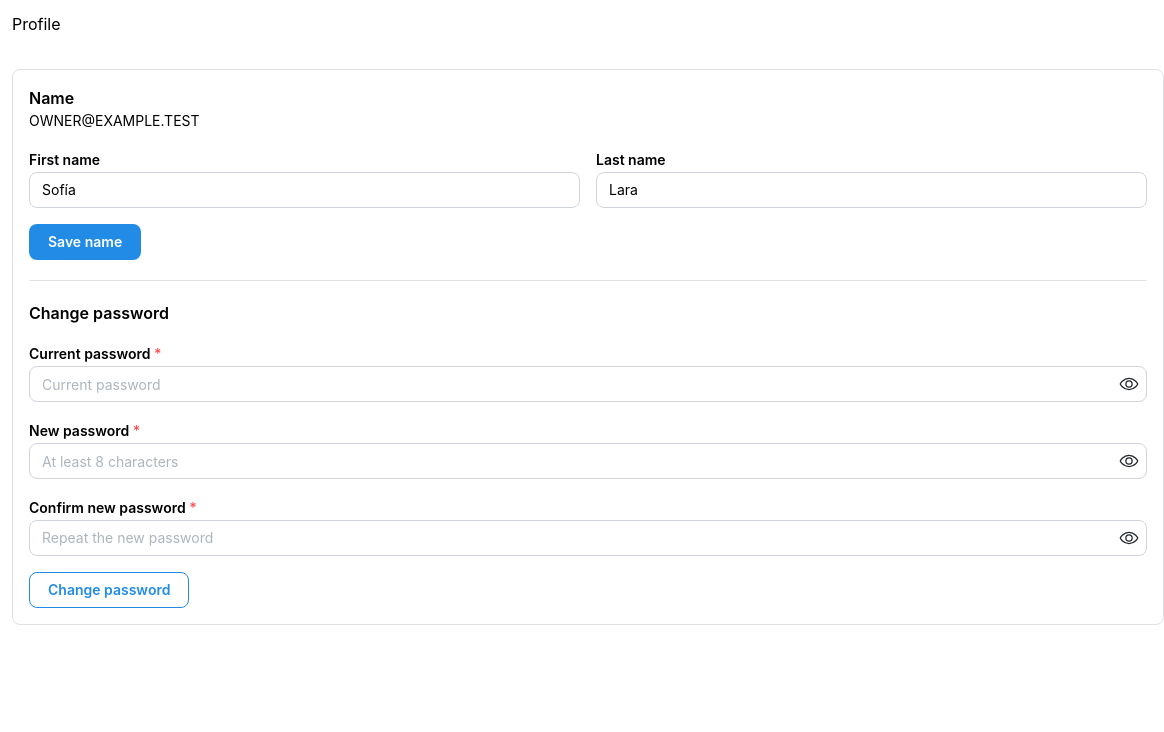
it: the profile page — the password change › maps a wrong current password to its own line
Type "not-the-password" into the password field labelled "Current password *" at (588, 384), box [30,367,1146,401]
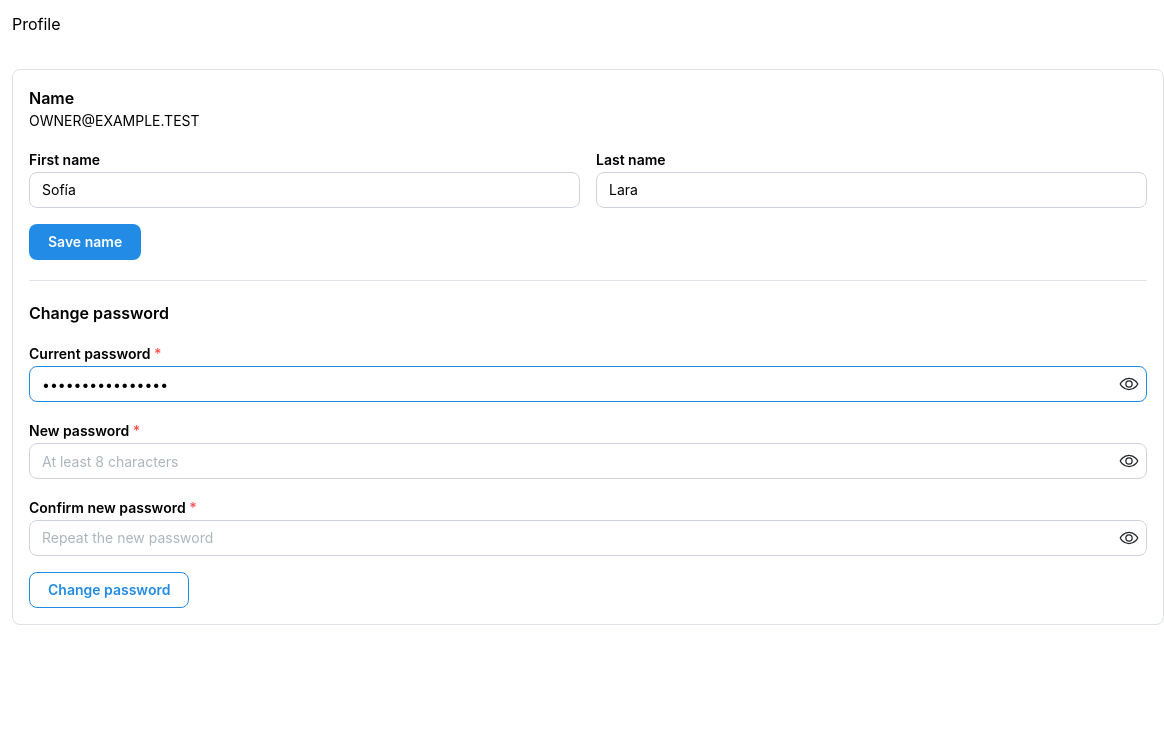
Type "sunlight-123" into the password field labelled "New password *" at (588, 461), box [30,444,1146,478]
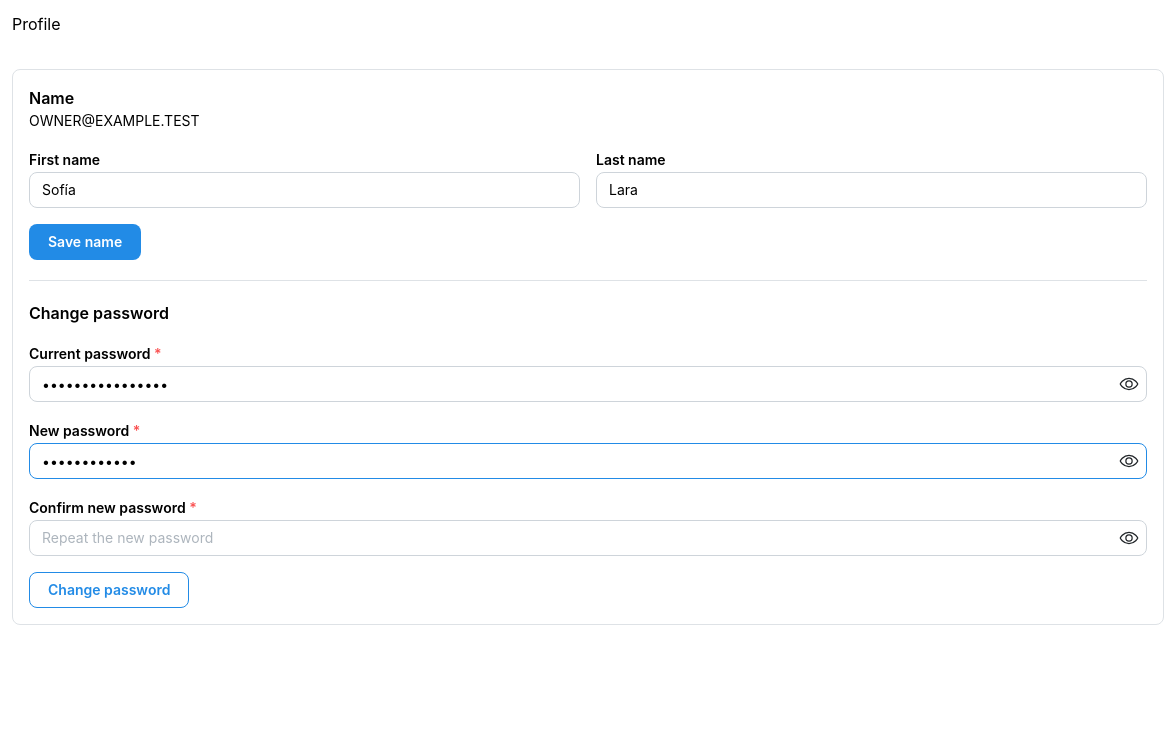
Type "sunlight-123" into the password field labelled "Confirm new password *" at (588, 538), box [30,521,1146,555]
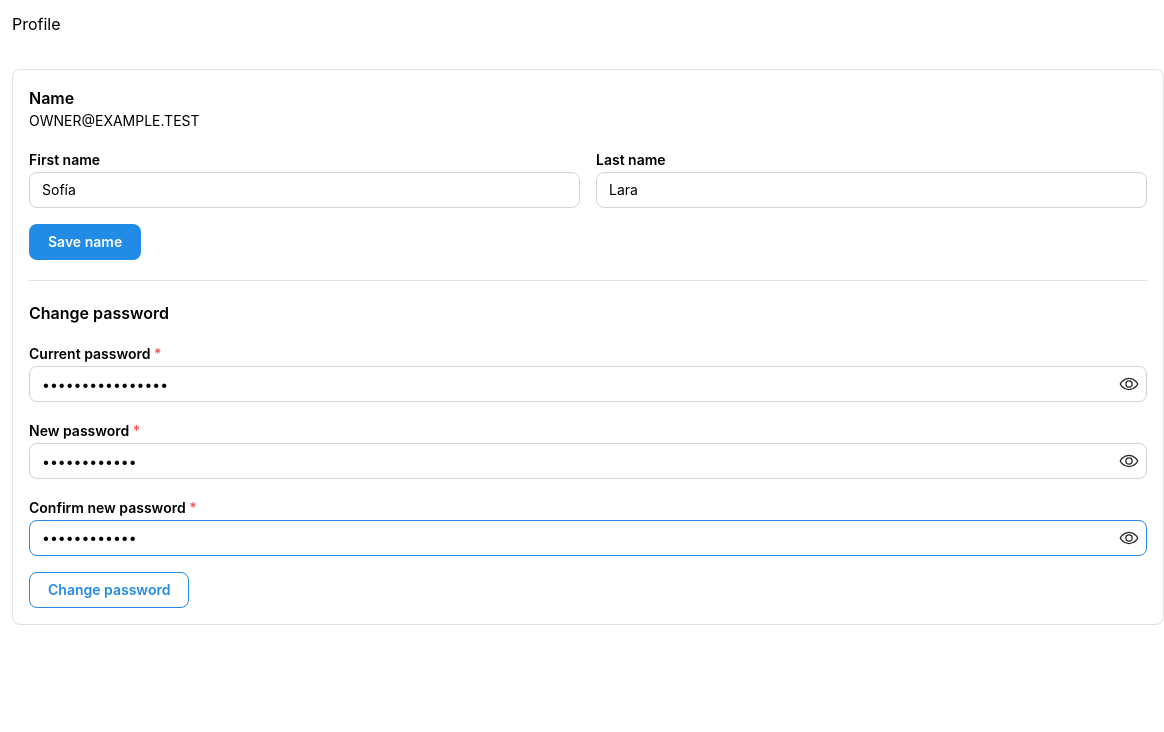
Click the button "Change password" at (109, 590), box [29,572,189,608]
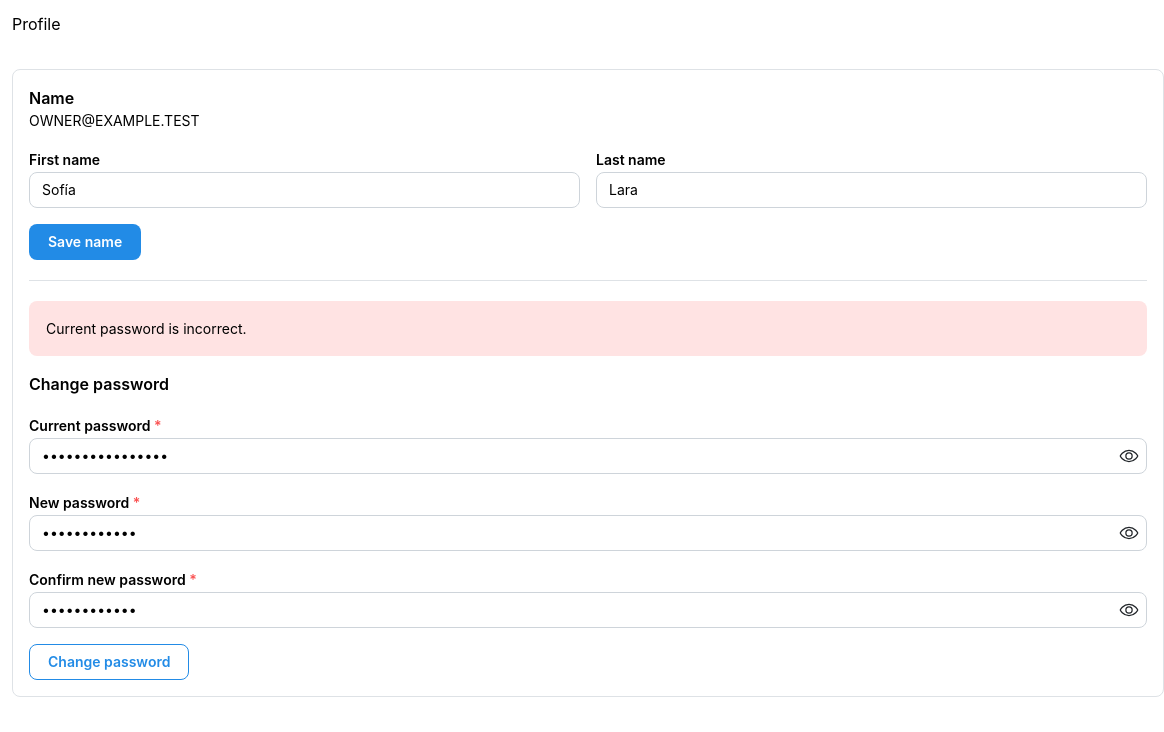
Expected: the text "Current password is incorrect." is shown, [46,320,247,337]
